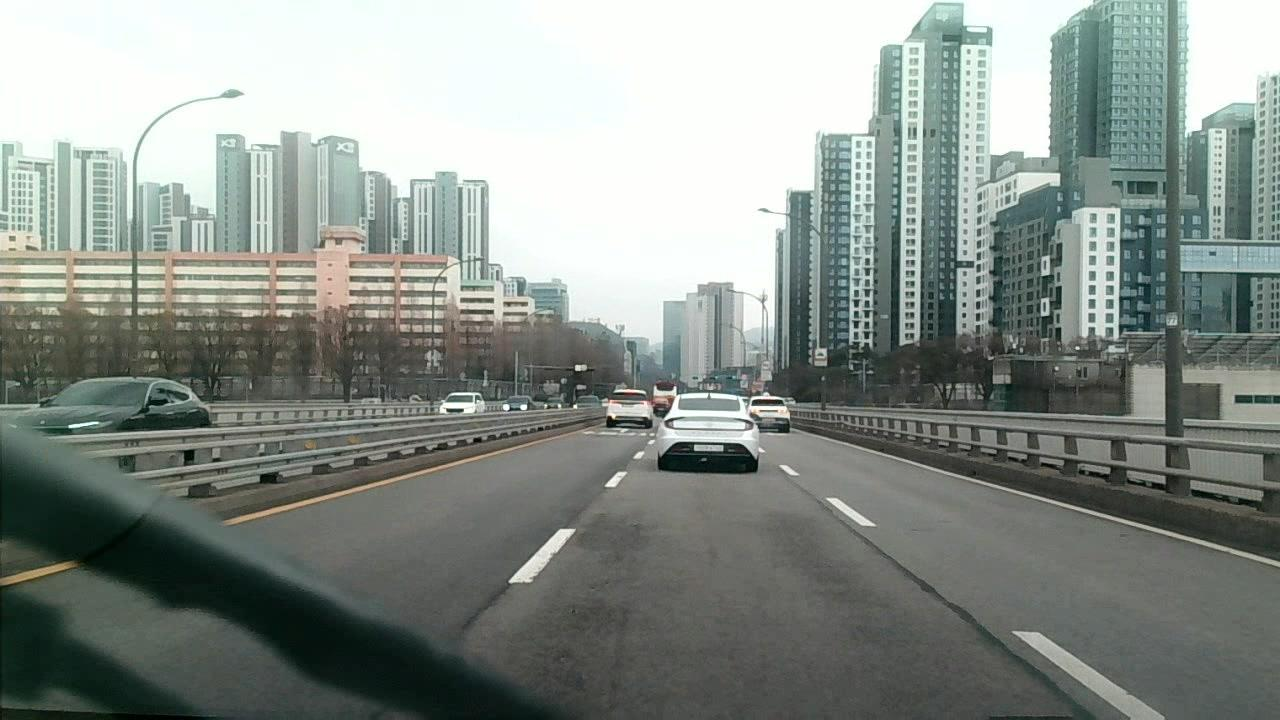vcrack: (922, 577, 1088, 714), (824, 500, 912, 578), (457, 577, 512, 638)
